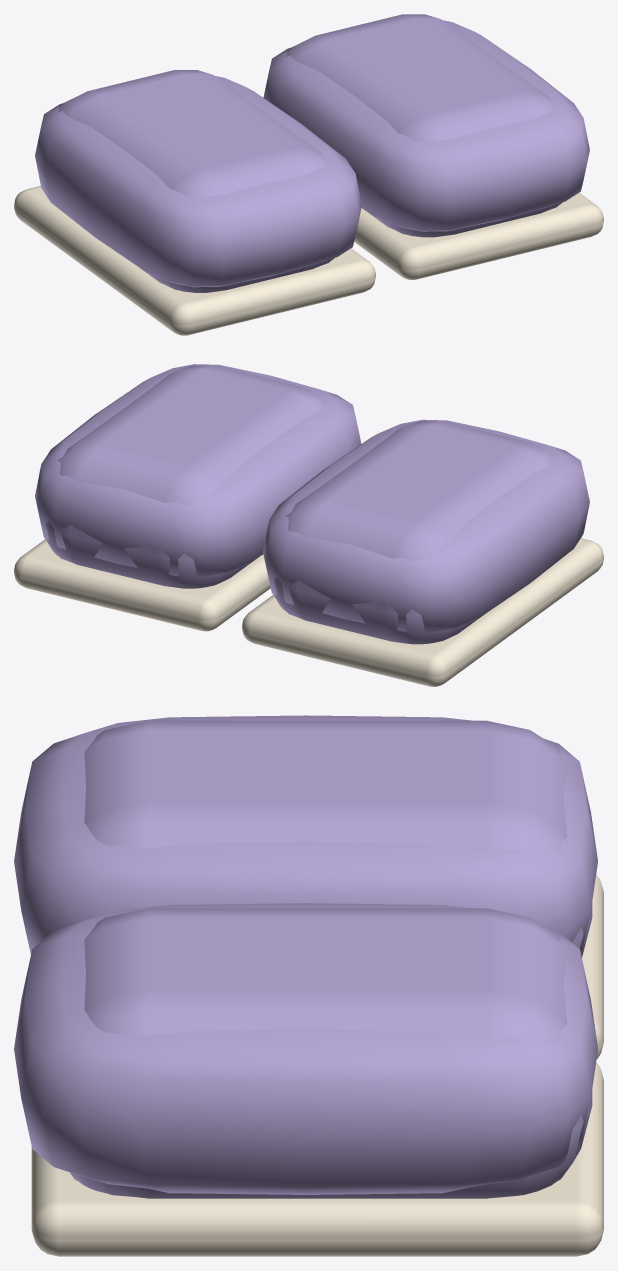
The model's file is babouches.glb.
The picture shows the model from 3 angles, top to bottom: view 1: azimuth 30°, elevation 25°; view 2: azimuth 150°, elevation 25°; view 3: azimuth 270°, elevation 25°; orthographic projection. The views are drawn at different scales.
Parts seen in each view (by area): view 1: babouches_LegL, babouches_LegR; view 2: babouches_LegL, babouches_LegR; view 3: babouches_LegR, babouches_LegL.
Boxes of the visible parts, bbox=[...] form: babouches_LegL: bbox=[14, 70, 375, 335]; babouches_LegR: bbox=[263, 14, 603, 279]; babouches_LegL: bbox=[242, 419, 603, 686]; babouches_LegR: bbox=[14, 364, 361, 631]; babouches_LegR: bbox=[14, 903, 603, 1256]; babouches_LegL: bbox=[14, 715, 603, 1059].
Bounding box in the file's own units: 0.37 × 0.1075 × 0.2525.
